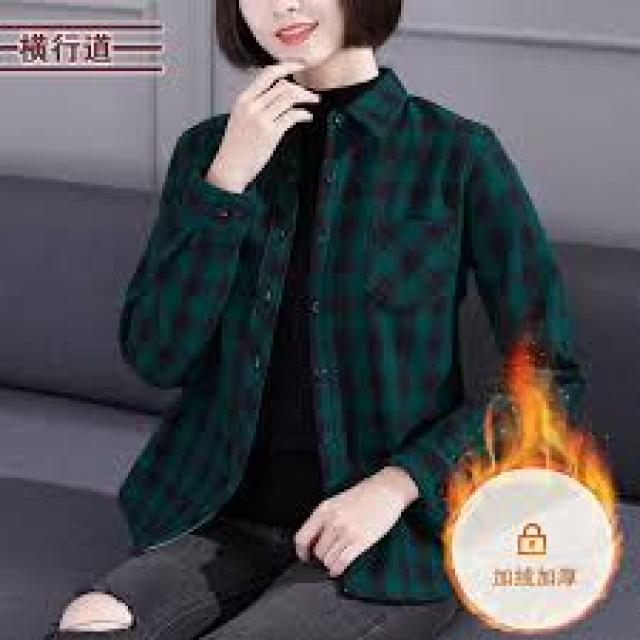plaid: (121, 107, 579, 590)
